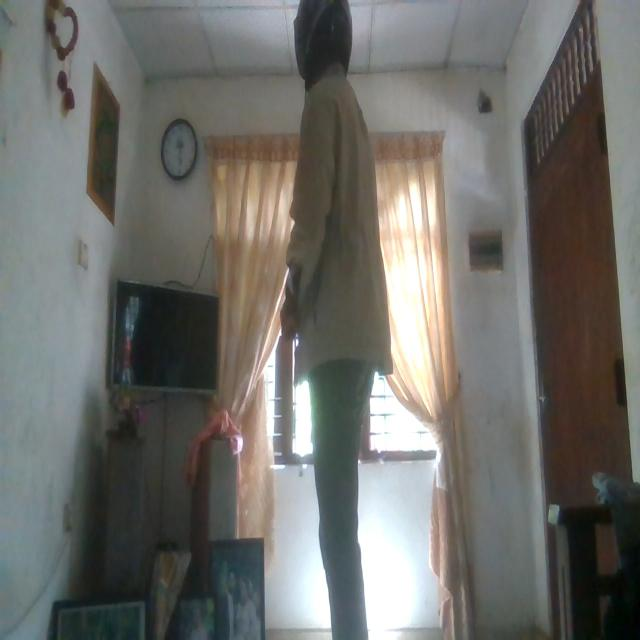Helmet_Wearer: (291, 0, 356, 81)
Jacket_Wearer: (292, 70, 400, 388)
Person: (284, 0, 402, 640)
